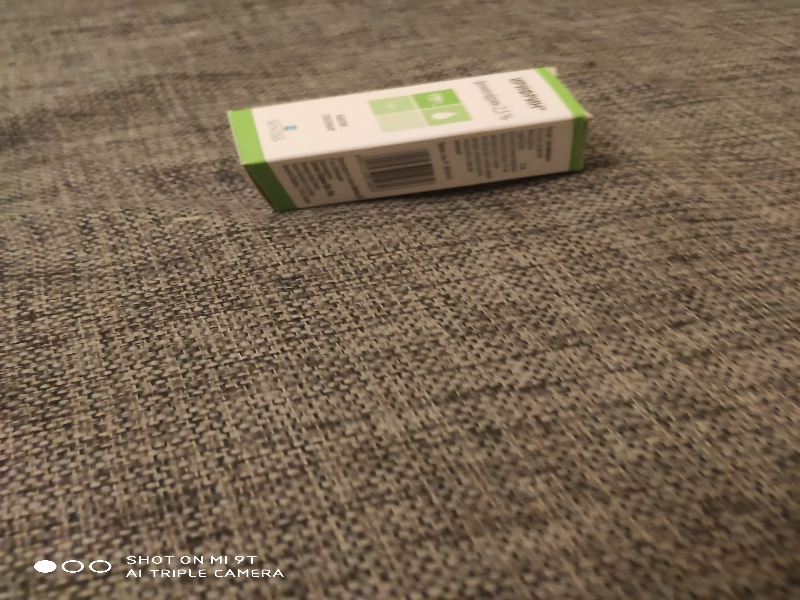ifrin: (211, 48, 601, 215)
